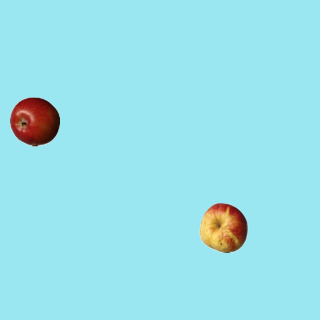Apple Braeburn: (9, 96, 59, 146)
Apple Red Yellow 1: (198, 202, 248, 252)
